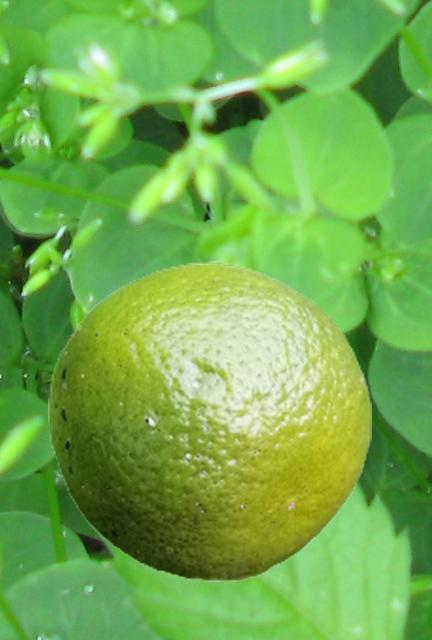calamansi: (48, 261, 370, 580)
